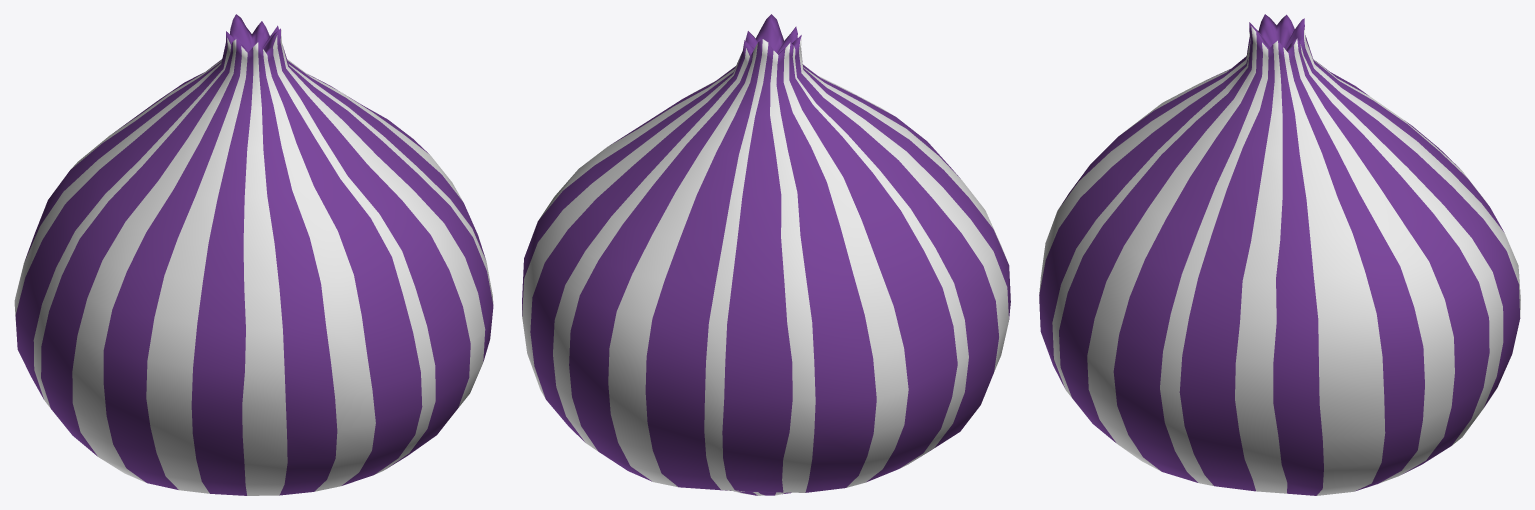
File: onion.FBX
3 views of the same model, side by side, from view 1: azimuth 30°, elevation 25°; view 2: azimuth 150°, elevation 25°; view 3: azimuth 270°, elevation 25° (orthographic).
Visible parts, largest first — view 1: onion; view 2: onion; view 3: onion.
Boxes of the visible parts, x1,y1,x2,y2 form: onion: (14,14,493,495); onion: (522,14,1010,495); onion: (1039,14,1520,495).
Bounding box in the file's own units: 11.96 × 12.49 × 11.97.
